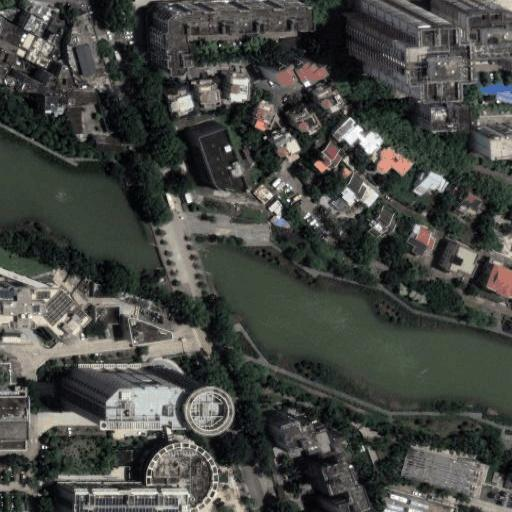building: (57, 439, 204, 512), (151, 0, 298, 66), (62, 363, 193, 414), (400, 445, 476, 493), (187, 119, 237, 191), (264, 412, 340, 455), (329, 174, 378, 213), (476, 260, 512, 296), (440, 239, 475, 276), (374, 145, 414, 177), (24, 36, 60, 71), (307, 453, 341, 489), (126, 318, 173, 344), (404, 224, 438, 258), (324, 478, 356, 512), (474, 122, 512, 149), (313, 141, 344, 174), (282, 50, 314, 80), (272, 130, 302, 162), (413, 169, 449, 195), (414, 96, 453, 120), (377, 493, 426, 512), (262, 193, 292, 224), (260, 55, 290, 85), (454, 191, 485, 220), (368, 208, 398, 237), (252, 100, 278, 133), (333, 117, 364, 144), (473, 78, 512, 99), (312, 83, 339, 112), (287, 104, 314, 132), (249, 176, 276, 203), (167, 89, 193, 116), (359, 128, 385, 154), (75, 43, 96, 75), (17, 7, 43, 32), (12, 71, 40, 93), (0, 421, 30, 440), (94, 306, 121, 327), (197, 81, 218, 107), (99, 102, 117, 131), (3, 23, 26, 45), (224, 72, 243, 98), (44, 95, 67, 114), (24, 0, 48, 17), (366, 444, 380, 472), (48, 17, 67, 37), (30, 67, 51, 85), (95, 137, 121, 151), (49, 60, 68, 78), (67, 106, 80, 132), (0, 440, 27, 451), (44, 31, 62, 47), (0, 5, 19, 20), (338, 164, 353, 178), (504, 473, 512, 489)
